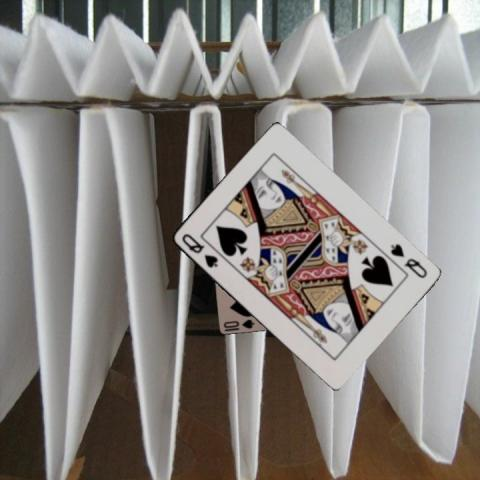10s: (221, 316, 256, 332)
Qs: (178, 231, 219, 270), (387, 241, 428, 280)
